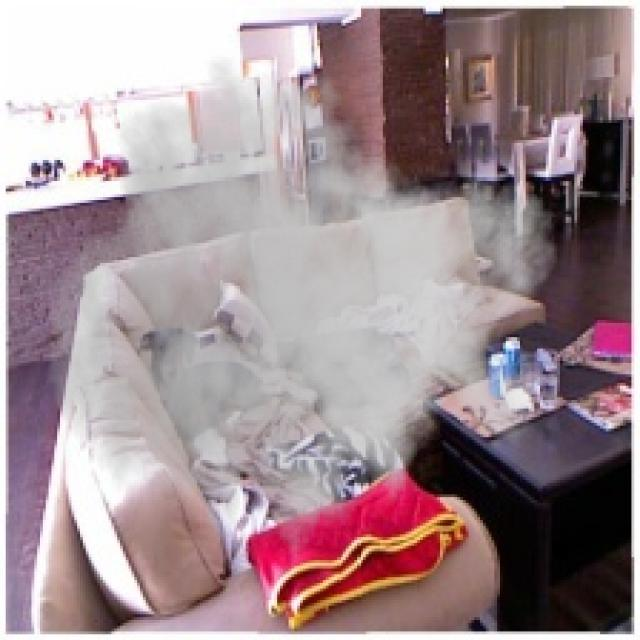smoke: (46, 43, 560, 586)
